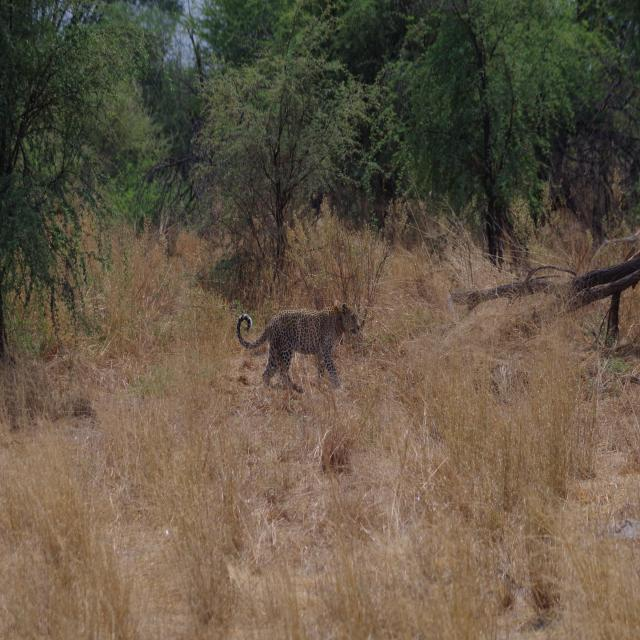Leopard: (238, 296, 360, 403)
